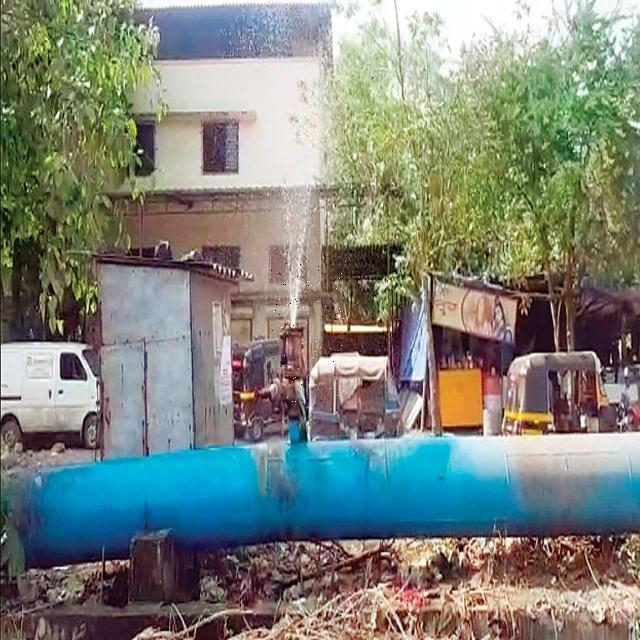pipe burst: (266, 90, 328, 337)
